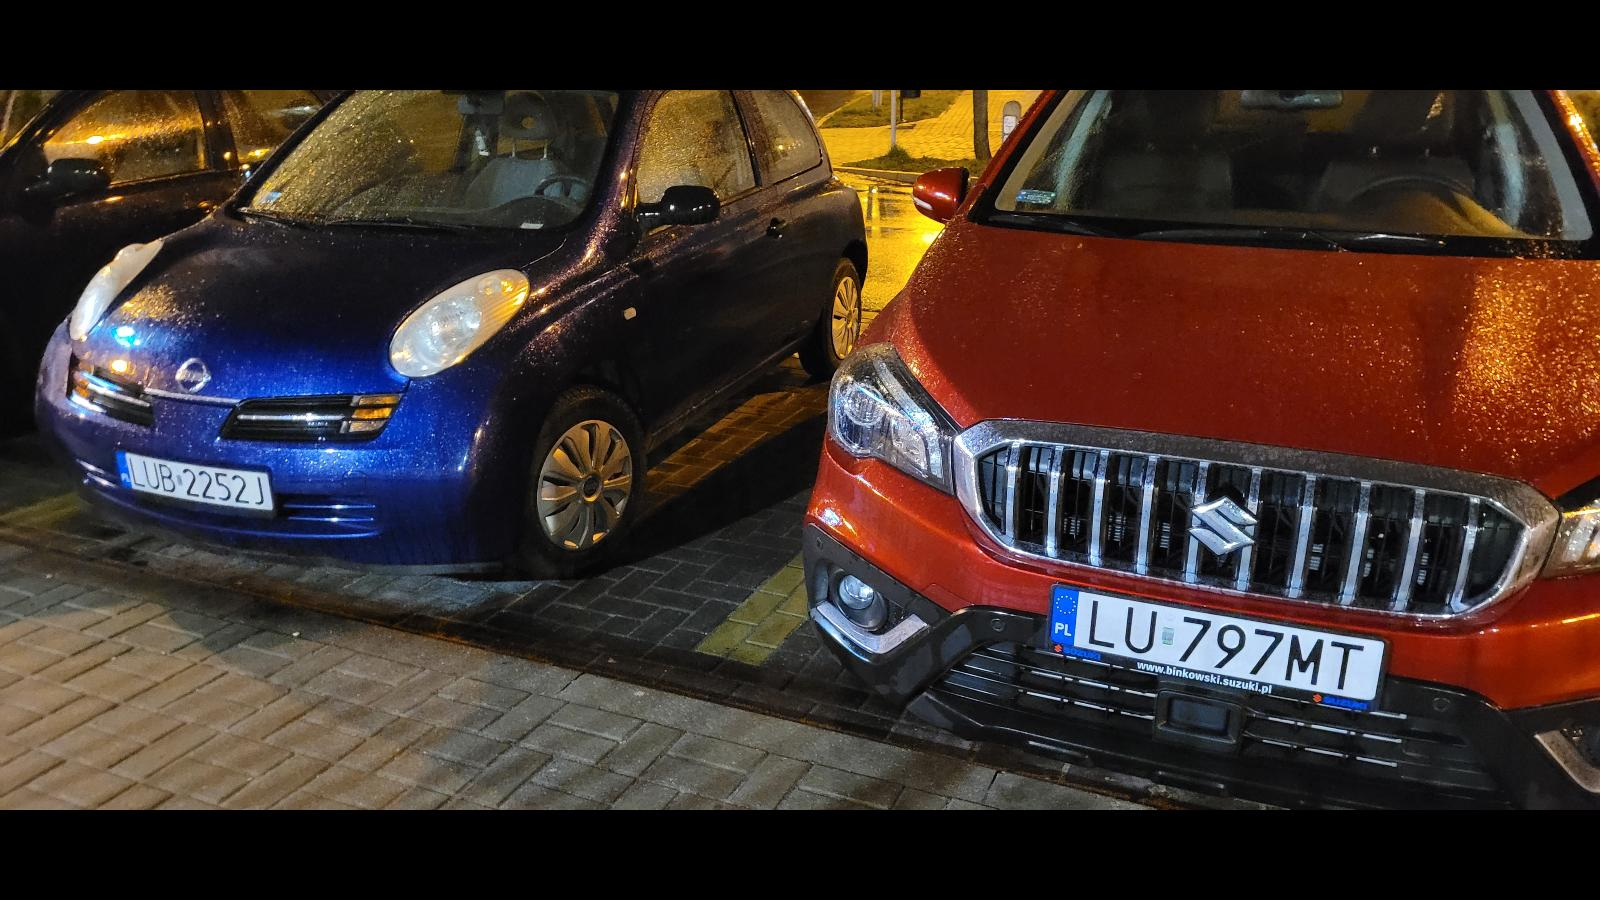plates: (1044, 584, 1388, 712), (114, 447, 278, 518)
